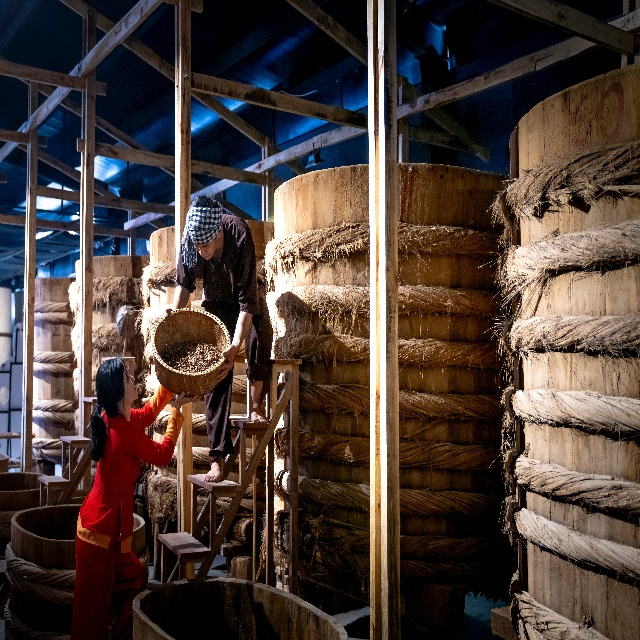Sin_guantes: (215, 343, 237, 382), (176, 392, 202, 405)
